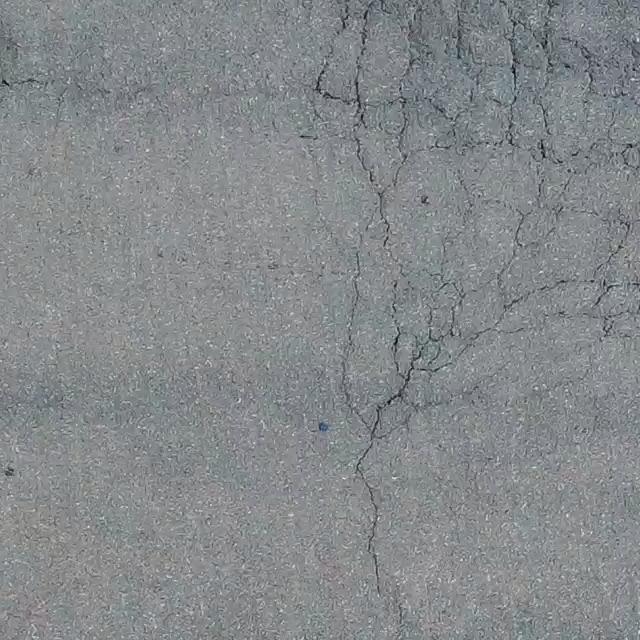GRIETA: (356, 435, 379, 595), (0, 77, 45, 87)
PIEL DE COCODRILO: (301, 0, 639, 442)
